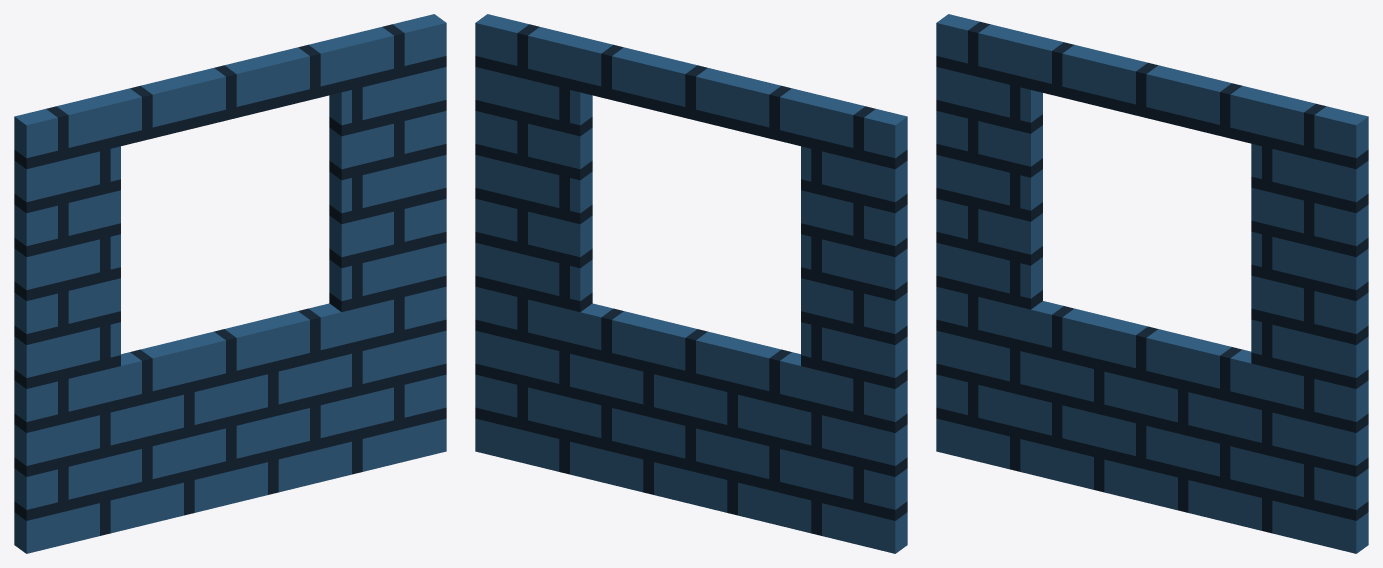
Rendered from ConstructionMaterials-38.obj.
3 renders of one model, left to right at view 1: azimuth 30°, elevation 25°; view 2: azimuth 150°, elevation 25°; view 3: azimuth 330°, elevation 25°, orthographic.
Bounding box in the file's own units: 4 × 3.9 × 0.2.
1 material, 1 textured.
